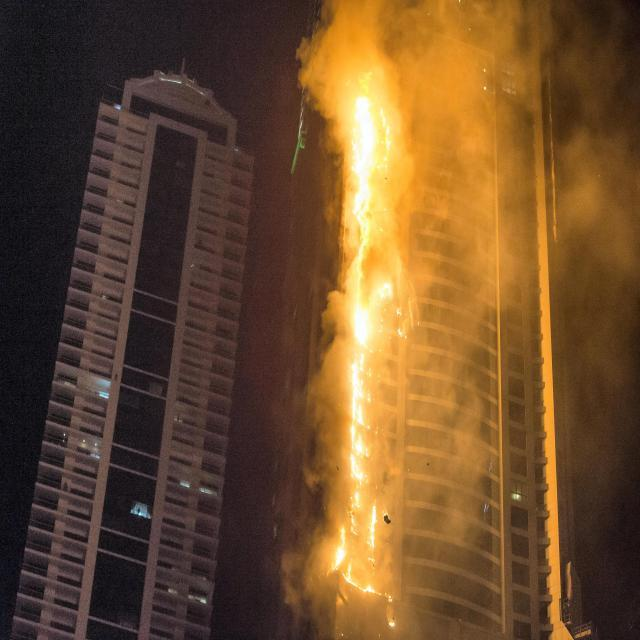Fire: (346, 68, 394, 346), (349, 349, 378, 553), (336, 526, 394, 603), (386, 593, 396, 628)
Smoke: (396, 105, 533, 346), (399, 346, 491, 636), (344, 2, 554, 106), (285, 286, 348, 607), (557, 128, 640, 284), (297, 0, 346, 146)
